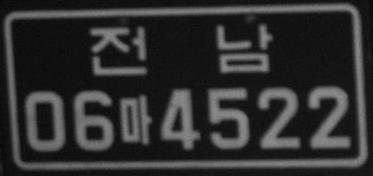0: (23, 90, 67, 152)
2: (256, 86, 302, 151), (307, 85, 352, 151)
4: (160, 87, 201, 150)
5: (206, 86, 250, 150)
6: (72, 88, 114, 151)
마: (118, 94, 153, 146)
전남_D: (88, 22, 274, 78)
